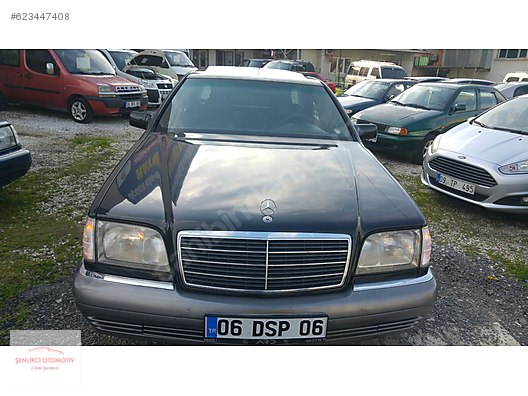mercedes: (69, 61, 434, 345)
